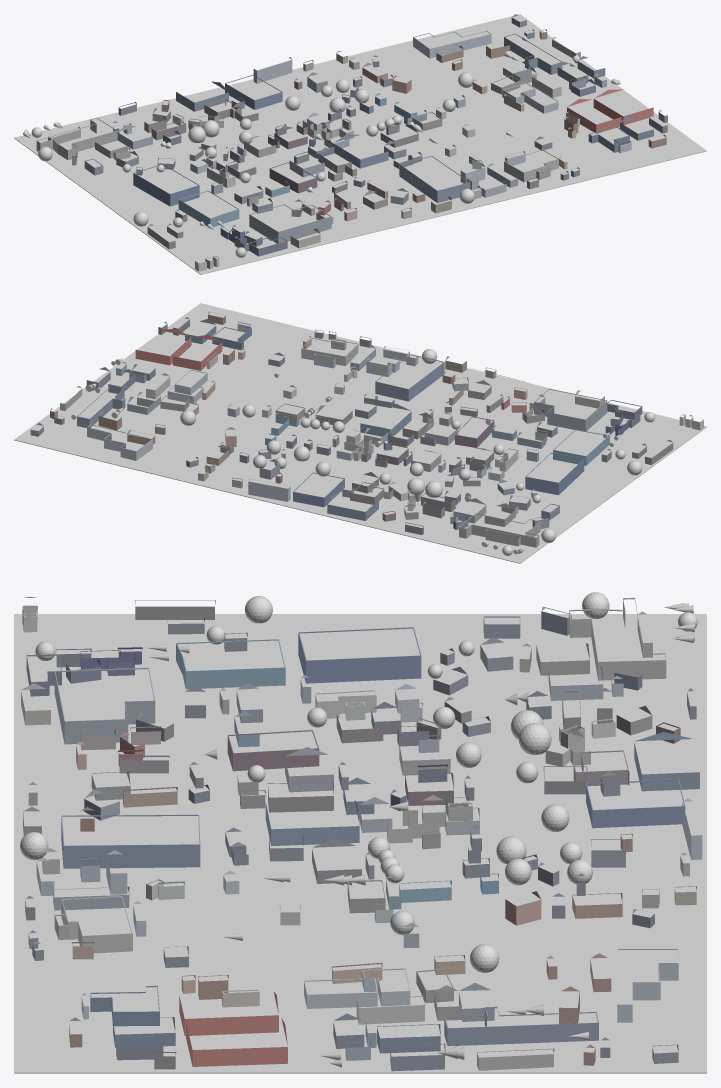
3 views of the same model, one above another, from view 1: azimuth 30°, elevation 25°; view 2: azimuth 150°, elevation 25°; view 3: azimuth 270°, elevation 25° (orthographic). The views are drawn at different scales.
Visible parts, largest first — view 1: Ground_Base, BLD-003, BLD-005, BLD-001, BLD-002, BLD-010, BLD-008, BLD-014, BLD-007, BLD-004, BLD-009, BLD-013 (+5 smaller); view 2: Ground_Base, BLD-003, BLD-001, BLD-005, BLD-002, BLD-010, BLD-008, BLD-004, BLD-014, BLD-057, BLD-013, BLD-007 (+4 smaller); view 3: Ground_Base, BLD-001, BLD-002, BLD-014, BLD-003, BLD-008, BLD-005, BLD-007, BLD-004, BLD-006, BLD-011, BLD-009 (+25 smaller).
Part boxes in pixels (bbox=[...]): Ground_Base: bbox=[14, 14, 706, 274]; BLD-003: bbox=[249, 204, 331, 243]; BLD-005: bbox=[36, 117, 117, 160]; BLD-001: bbox=[399, 156, 470, 203]; BLD-002: bbox=[133, 164, 199, 206]; BLD-010: bbox=[413, 31, 491, 58]; BLD-008: bbox=[178, 190, 239, 227]; BLD-014: bbox=[504, 33, 562, 74]; BLD-007: bbox=[225, 75, 282, 109]; BLD-004: bbox=[593, 89, 653, 125]; BLD-009: bbox=[333, 134, 388, 168]; BLD-013: bbox=[504, 149, 558, 182]; Ground_Base: bbox=[14, 303, 706, 563]; BLD-003: bbox=[534, 388, 607, 431]; BLD-001: bbox=[375, 354, 444, 401]; BLD-005: bbox=[459, 513, 540, 547]; BLD-002: bbox=[525, 452, 584, 495]; BLD-010: bbox=[87, 424, 152, 460]; BLD-008: bbox=[553, 429, 609, 465]; BLD-004: bbox=[135, 329, 191, 365]; BLD-014: bbox=[77, 385, 125, 427]; BLD-057: bbox=[248, 478, 290, 501]; BLD-013: bbox=[301, 338, 358, 365]; BLD-007: bbox=[293, 472, 344, 507]; Ground_Base: bbox=[14, 614, 706, 1073]; BLD-001: bbox=[61, 814, 200, 868]; BLD-002: bbox=[298, 627, 421, 683]; BLD-014: bbox=[444, 1006, 598, 1046]; BLD-003: bbox=[54, 667, 155, 744]; BLD-008: bbox=[176, 639, 285, 689]; BLD-005: bbox=[569, 597, 666, 680]; BLD-007: bbox=[586, 779, 685, 828]; BLD-004: bbox=[186, 1018, 287, 1066]; BLD-006: bbox=[179, 991, 278, 1035]; BLD-011: bbox=[227, 730, 319, 771]; BLD-009: bbox=[265, 799, 359, 845].
Bounding box in the file's own units: 342 × 12.07 × 216.
